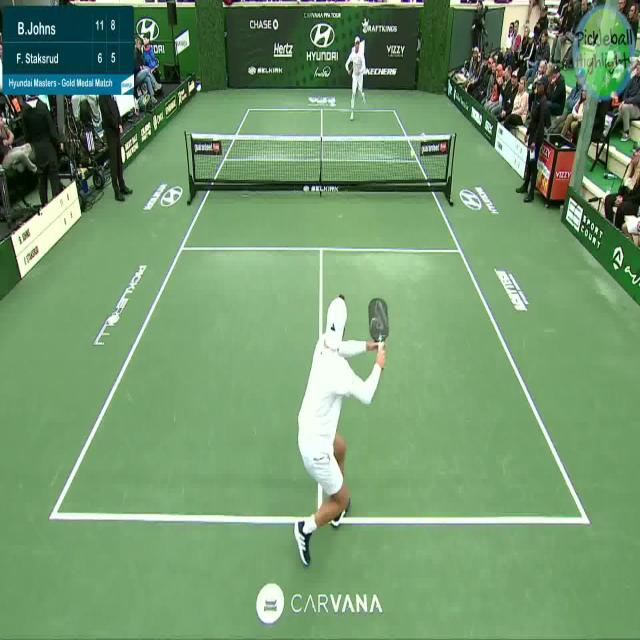ball: (408, 145, 418, 163)
